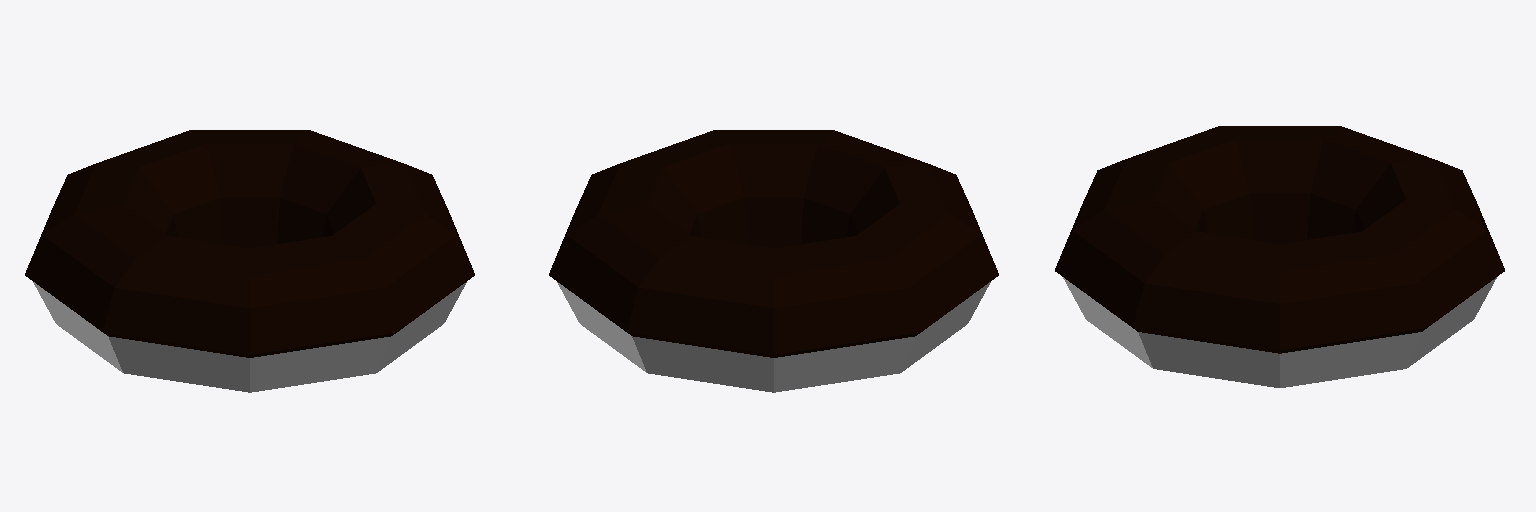
File: Simple_Donut.obj
3 views of the same model, side by side, from view 1: azimuth 30°, elevation 25°; view 2: azimuth 150°, elevation 25°; view 3: azimuth 270°, elevation 25° (orthographic).
Parts seen in each view (by area): view 1: Simple_Donut; view 2: Simple_Donut; view 3: Simple_Donut.
Boxes of the visible parts, <box> form: Simple_Donut: <box>25,130,474,392</box>; Simple_Donut: <box>549,130,998,392</box>; Simple_Donut: <box>1055,126,1504,387</box>.
Bounding box in the file's own units: 0.1513 × 0.0474 × 0.1536.